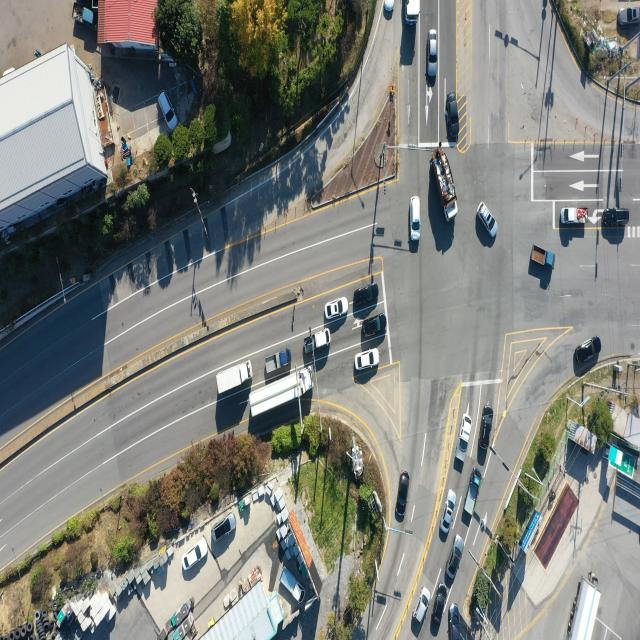car: (183, 538, 210, 572), (448, 533, 466, 579), (442, 491, 459, 534), (576, 334, 602, 362), (479, 202, 499, 238), (160, 90, 178, 129), (395, 470, 409, 520), (213, 514, 235, 542), (416, 588, 432, 625), (601, 208, 630, 228), (361, 317, 386, 340), (354, 349, 380, 371), (432, 586, 446, 626), (323, 298, 348, 320), (411, 196, 423, 240), (354, 284, 379, 305), (482, 408, 494, 451), (428, 30, 438, 78), (447, 96, 459, 136), (618, 6, 640, 24), (384, 0, 394, 13)
medium_truck: (246, 362, 314, 418), (565, 580, 601, 640), (432, 150, 458, 225), (218, 358, 251, 396), (403, 0, 423, 27)
small_truck: (279, 569, 305, 603), (265, 348, 294, 376), (463, 472, 481, 517), (303, 330, 331, 354), (456, 414, 470, 462), (72, 2, 96, 28), (534, 248, 558, 271), (562, 207, 588, 226)
